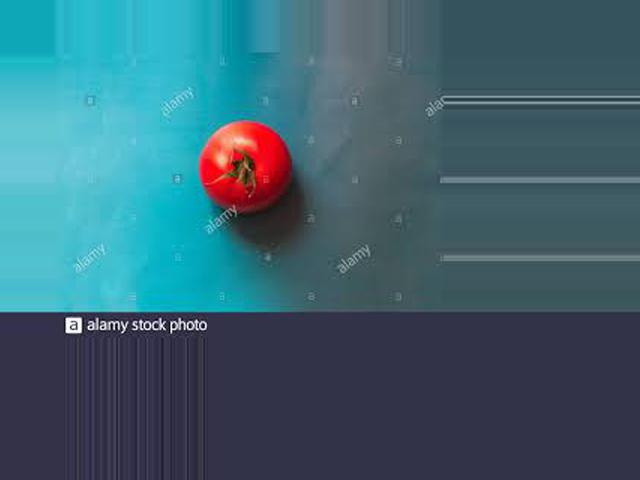tomato: (199, 120, 290, 213)
